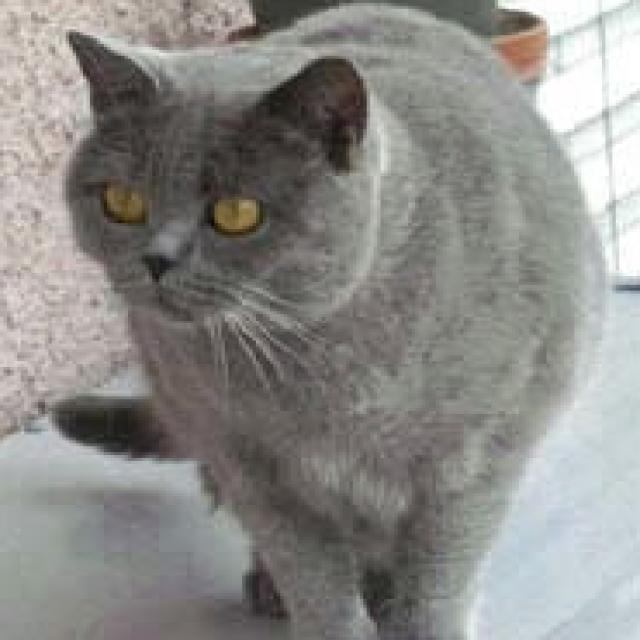British Shorthair: (41, 0, 609, 640)
